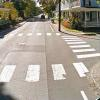Crosswalk: (54, 29, 100, 86)
